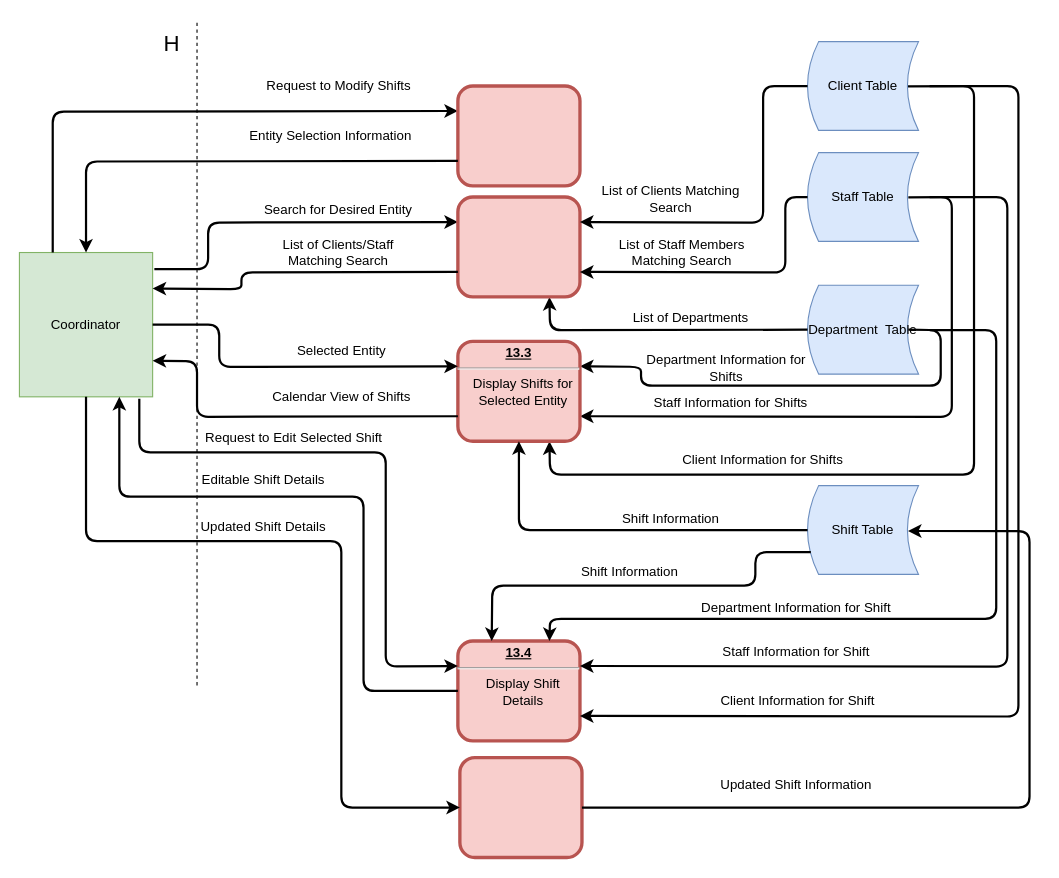
The diagram is 1059 pixels wide and 878 high, and some of its shapes have lost their labels. The shapes that lost their labels are listed below. From the top down, each one's centre as x and y in pixels, then its label:
(x=518, y=135): 13.1 Display Entity Selection Screen
(x=518, y=246): 13.2 Display List of Clients/ Staff/Departments
(x=520, y=807): 13.5 Update Shift Details
